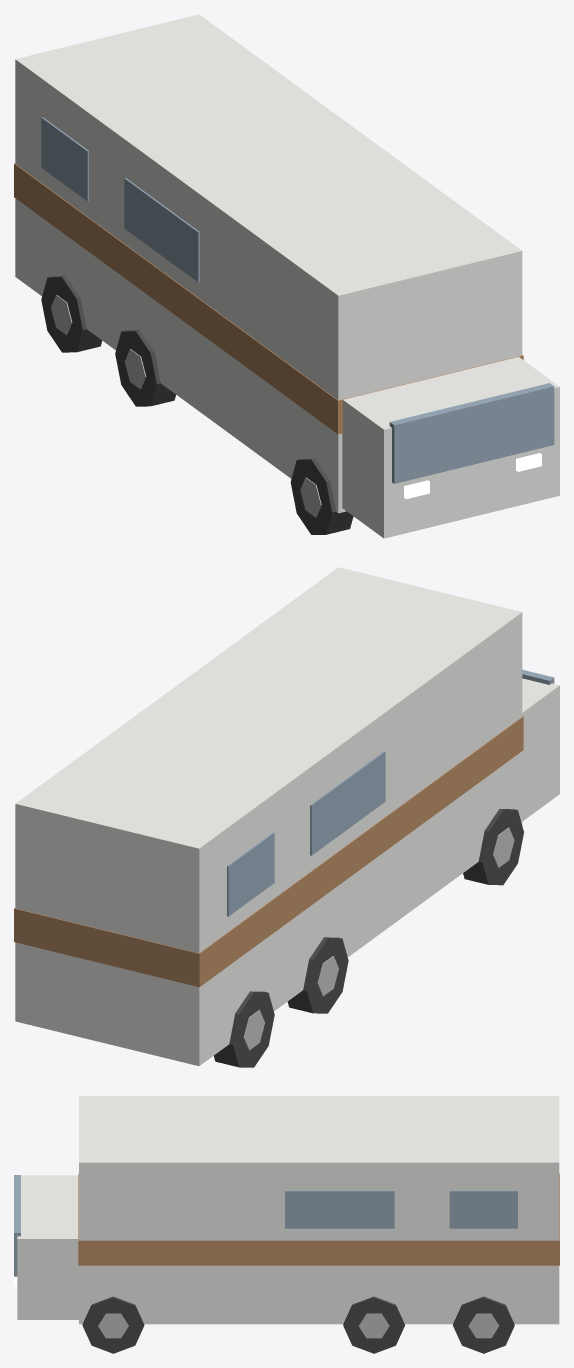
The picture shows the model from 3 angles, top to bottom: view 1: azimuth 30°, elevation 25°; view 2: azimuth 150°, elevation 25°; view 3: azimuth 270°, elevation 25°; orthographic projection. The views are drawn at different scales.
Parts seen in each view (by area): view 1: rv; view 2: rv; view 3: rv.
Part boxes in pixels (<box>): rv: <box>14,14,559,538</box>; rv: <box>14,567,559,1067</box>; rv: <box>14,1096,559,1353</box>.
Size of the model in its own units: 2.42 by 3.05 by 7.96.
